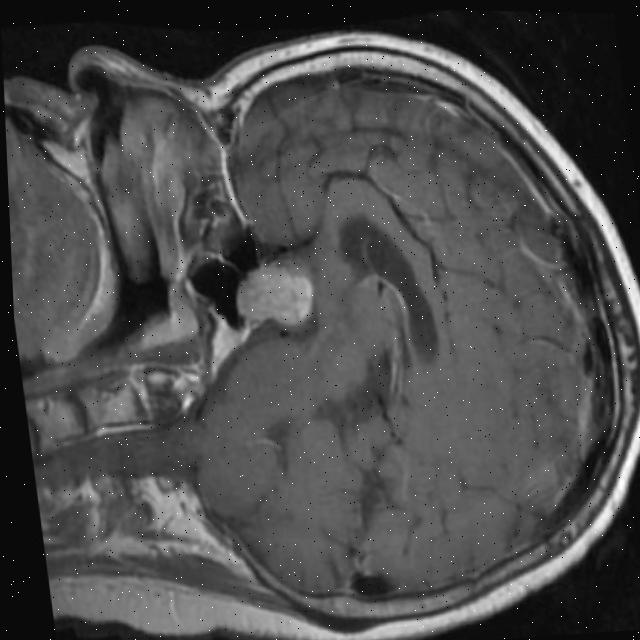Pituitary: (228, 260, 316, 331)
